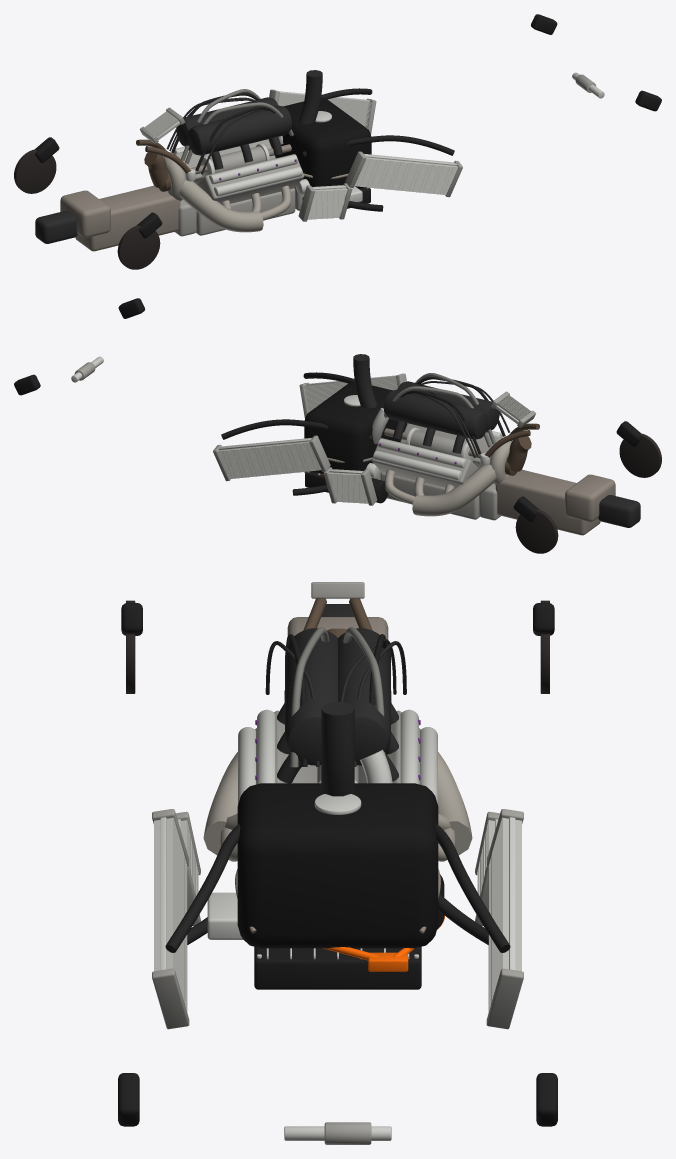
The model's file is car-inner.glb.
The picture shows the model from 3 angles, top to bottom: view 1: azimuth 30°, elevation 25°; view 2: azimuth 150°, elevation 25°; view 3: azimuth 270°, elevation 25°; orthographic projection. The views are drawn at different scales.
Visible parts, largest first — view 1: fuelcell, gb_main, rad-1_fins, plenum-1, collector-1, gb_diff, head-1, rdisc-1, rdisc1, crankcase, gb_rear, ic-1_fins (+19 smaller); view 2: fuelcell, gb_main, rad1_fins, plenum1, collector1, gb_diff, head1, rdisc1, rdisc-1, gb_rear, ic1_fins, crankcase (+19 smaller); view 3: fuelcell, battery, plenum-1, plenum1, rad1_fins, rad-1_fins, comp_inlet, collector1, collector-1, hoseB1, hoseB-1, ce (+19 smaller).
Part boxes in pixels (bbox=[...]): fuelcell: bbox=[269, 98, 371, 188]; gb_main: bbox=[75, 185, 180, 251]; rad-1_fins: bbox=[354, 154, 457, 194]; plenum-1: bbox=[188, 105, 291, 155]; collector-1: bbox=[179, 180, 263, 232]; gb_diff: bbox=[60, 190, 110, 237]; head-1: bbox=[197, 154, 304, 203]; rdisc-1: bbox=[117, 225, 160, 269]; rdisc1: bbox=[14, 149, 56, 193]; crankcase: bbox=[196, 188, 295, 235]; gb_rear: bbox=[35, 211, 77, 243]; ic-1_fins: bbox=[307, 185, 347, 219]; fuelcell: bbox=[304, 382, 406, 473]; gb_main: bbox=[495, 469, 600, 535]; rad1_fins: bbox=[218, 438, 321, 478]; plenum1: bbox=[384, 389, 487, 439]; collector1: bbox=[412, 464, 496, 516]; gb_diff: bbox=[565, 474, 615, 521]; head1: bbox=[371, 438, 478, 487]; rdisc1: bbox=[515, 509, 558, 553]; rdisc-1: bbox=[619, 433, 661, 477]; gb_rear: bbox=[598, 495, 640, 527]; ic1_fins: bbox=[328, 469, 368, 503]; crankcase: bbox=[380, 472, 479, 519]; fuelcell: bbox=[237, 783, 438, 948]; battery: bbox=[254, 946, 421, 989]; plenum-1: bbox=[285, 628, 337, 765]; plenum1: bbox=[338, 628, 390, 765]; rad1_fins: bbox=[488, 817, 521, 1011]; rad-1_fins: bbox=[154, 817, 187, 1011]; comp_inlet: bbox=[321, 702, 354, 796]; collector1: bbox=[438, 752, 472, 855]; collector-1: bbox=[203, 752, 237, 855]; hoseB1: bbox=[435, 823, 510, 952]; hoseB-1: bbox=[165, 823, 240, 952]; ce: bbox=[207, 892, 243, 939].
Size of the model in its own units: 3.93 by 0.83 by 1.31.
